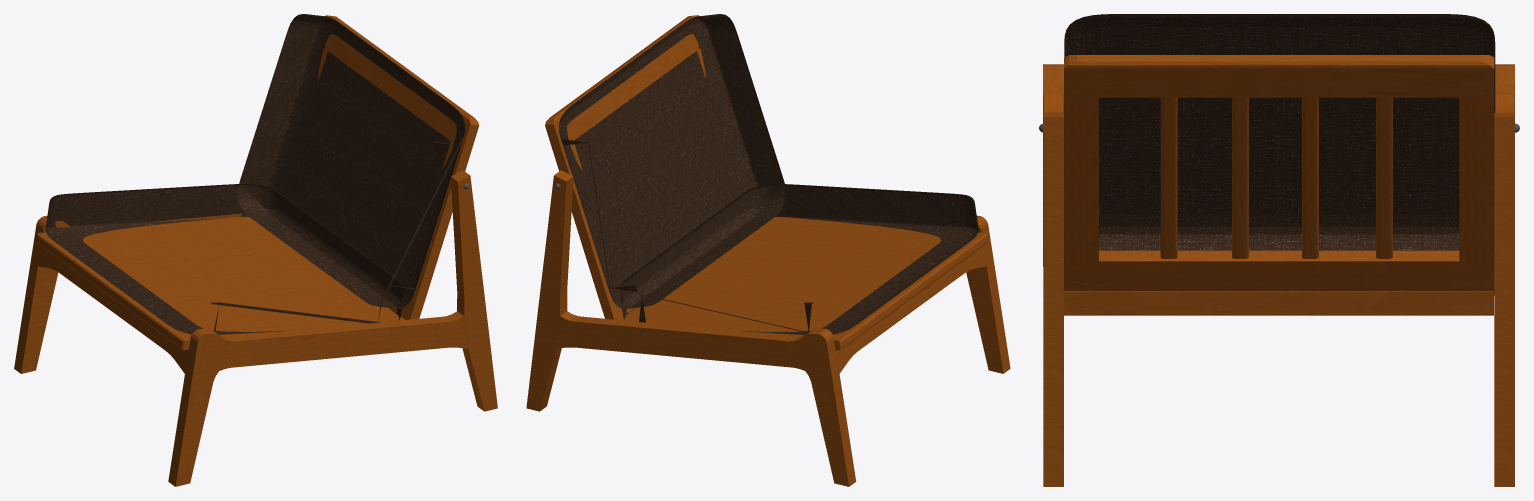
File: raychair2git.glb
3 renders of one model, left to right at view 1: azimuth 30°, elevation 25°; view 2: azimuth 150°, elevation 25°; view 3: azimuth 270°, elevation 25°, orthographic. The views are drawn at different scales.
Visible parts, largest first — view 1: Cube, Cylinder.005; view 2: Cube, Cylinder.005; view 3: Cube, Cylinder.005.
Boxes of the visible parts, <box> form: Cube: <box>14,15,497,486</box>; Cylinder.005: <box>45,14,464,334</box>; Cube: <box>526,15,1010,486</box>; Cylinder.005: <box>559,14,978,334</box>; Cube: <box>1043,55,1514,486</box>; Cylinder.005: <box>1064,14,1495,250</box>.
Size of the model in its own units: 3.61 by 3.21 by 3.19.
3 materials, 2 textured.
